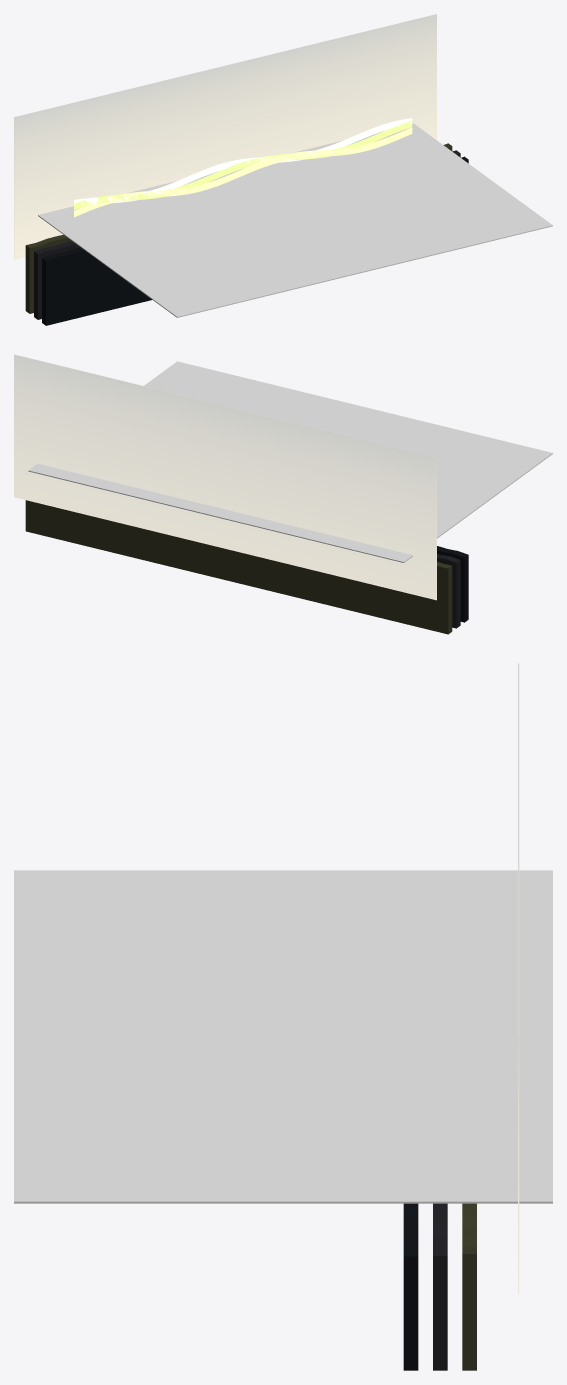
Rendered from goldaurora.glb.
The picture shows the model from 3 angles, top to bottom: view 1: azimuth 30°, elevation 25°; view 2: azimuth 150°, elevation 25°; view 3: azimuth 270°, elevation 25°; orthographic projection. The views are drawn at different scales.
Visible parts, largest first — view 1: Ground contact / transparent shadow receiver.022, Sky gradient / editable material.022, World / terrain and architecture.017, World / windows and source motifs.016; view 2: Sky gradient / editable material.022, Ground contact / transparent shadow receiver.022, World / terrain and architecture.017; view 3: Ground contact / transparent shadow receiver.022, World / terrain and architecture.017, Sky gradient / editable material.022.
Boxes of the visible parts, x1,y1,x2,y2 form: Ground contact / transparent shadow receiver.022: (38,123,552,317); Sky gradient / editable material.022: (14,14,436,259); World / terrain and architecture.017: (25,143,468,325); World / windows and source motifs.016: (74,118,412,217); Sky gradient / editable material.022: (14,354,436,600); Ground contact / transparent shadow receiver.022: (28,361,552,562); World / terrain and architecture.017: (25,500,468,634); Ground contact / transparent shadow receiver.022: (14,870,552,1203); World / terrain and architecture.017: (403,1203,476,1370); Sky gradient / editable material.022: (518,663,519,1293).
Bounding box in the file's own units: 180 × 75.4 × 110.
